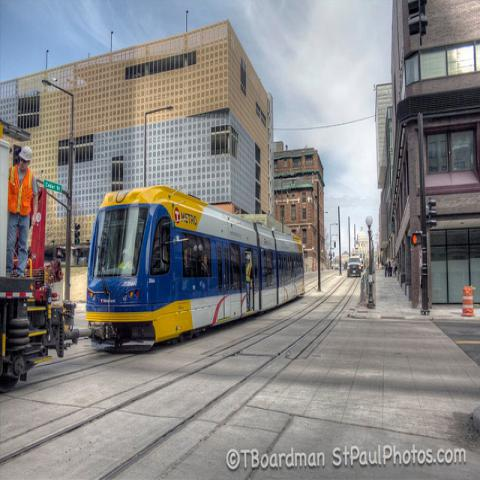truck: (347, 258, 361, 278)
